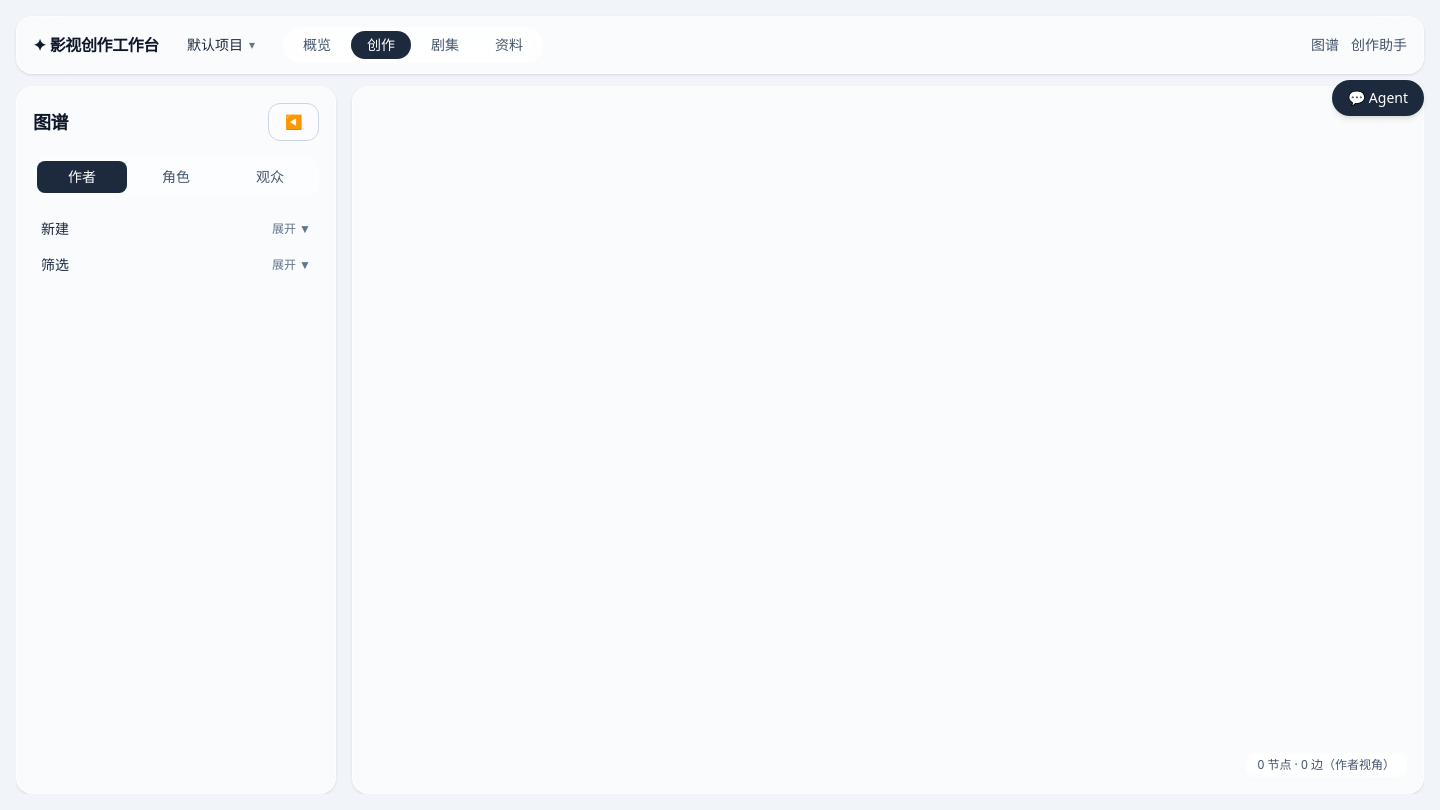
Test: F12 通用参考库（FI5/FI7/FI8/FI12） › FI5: 分区搜索过滤 + 与 chips AND 叠加；无命中提示区分空库（等价类—组合 + 边界值—过滤空集）
Click the link with test id "tab-assets": (509,44) x1=495 y1=35 x2=523 y2=54
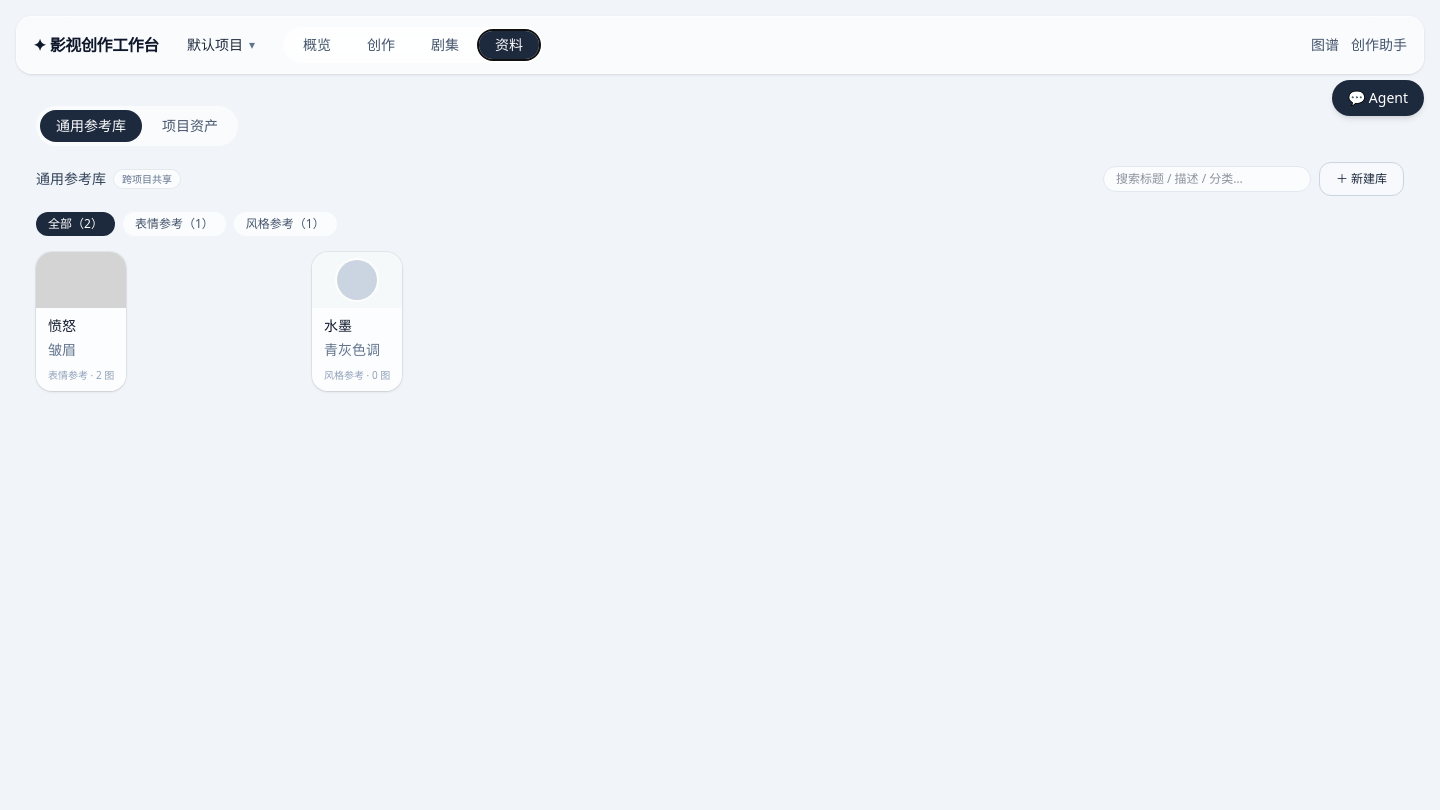
expect the link with test id "section-general" is shown: met, box x1=40 y1=110 x2=142 y2=142
In the search field with test id "asset-search": (1207,179) x1=1103 y1=166 x2=1311 y2=192, type "青灰"
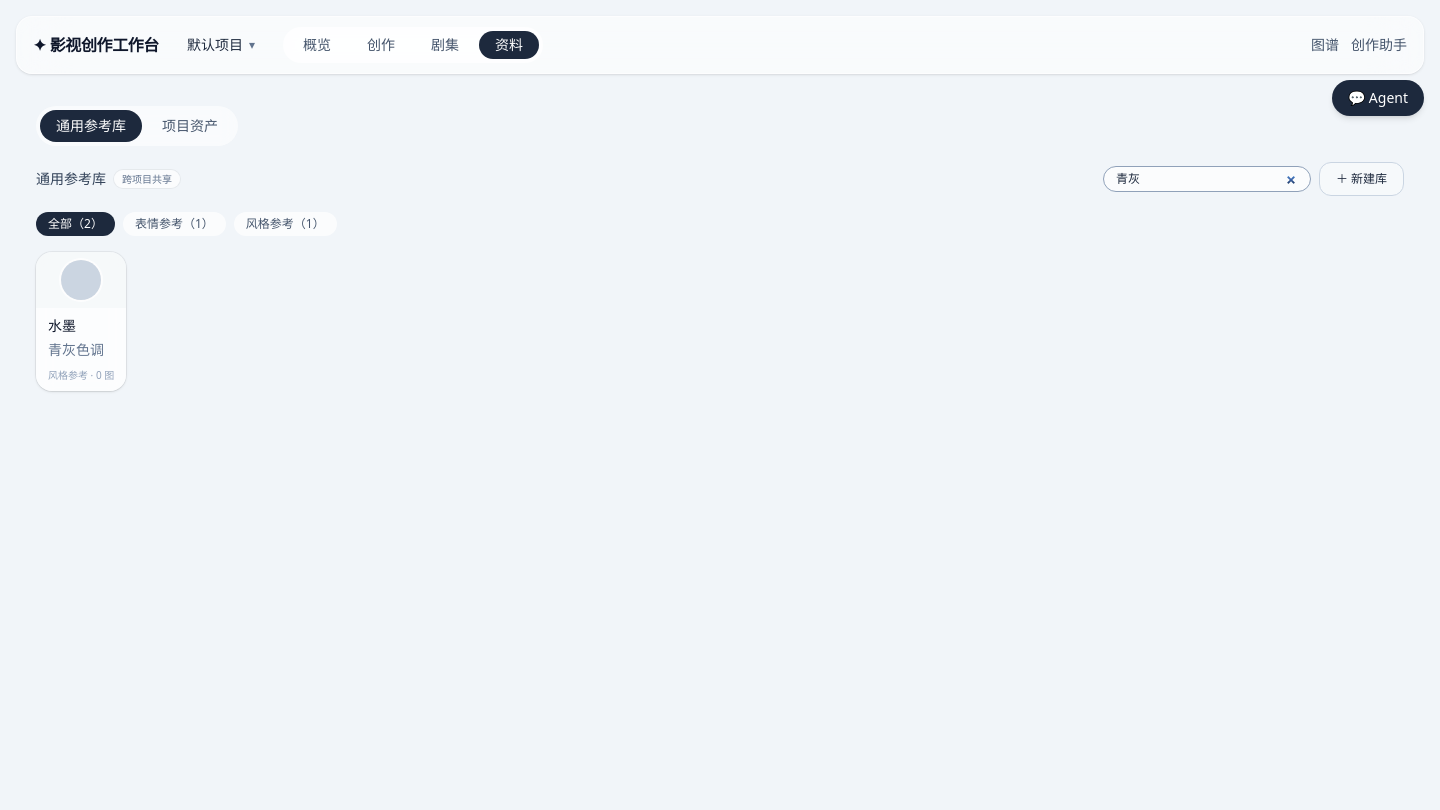
expect the number of buttons with test id "general-asset-asset-g2" is 1: met, box x1=36 y1=252 x2=126 y2=391
expect the button with test id "general-asset-asset-g1" is gone: met
Click the button with test id "category-表情参考": (174,224) x1=123 y1=212 x2=226 y2=236
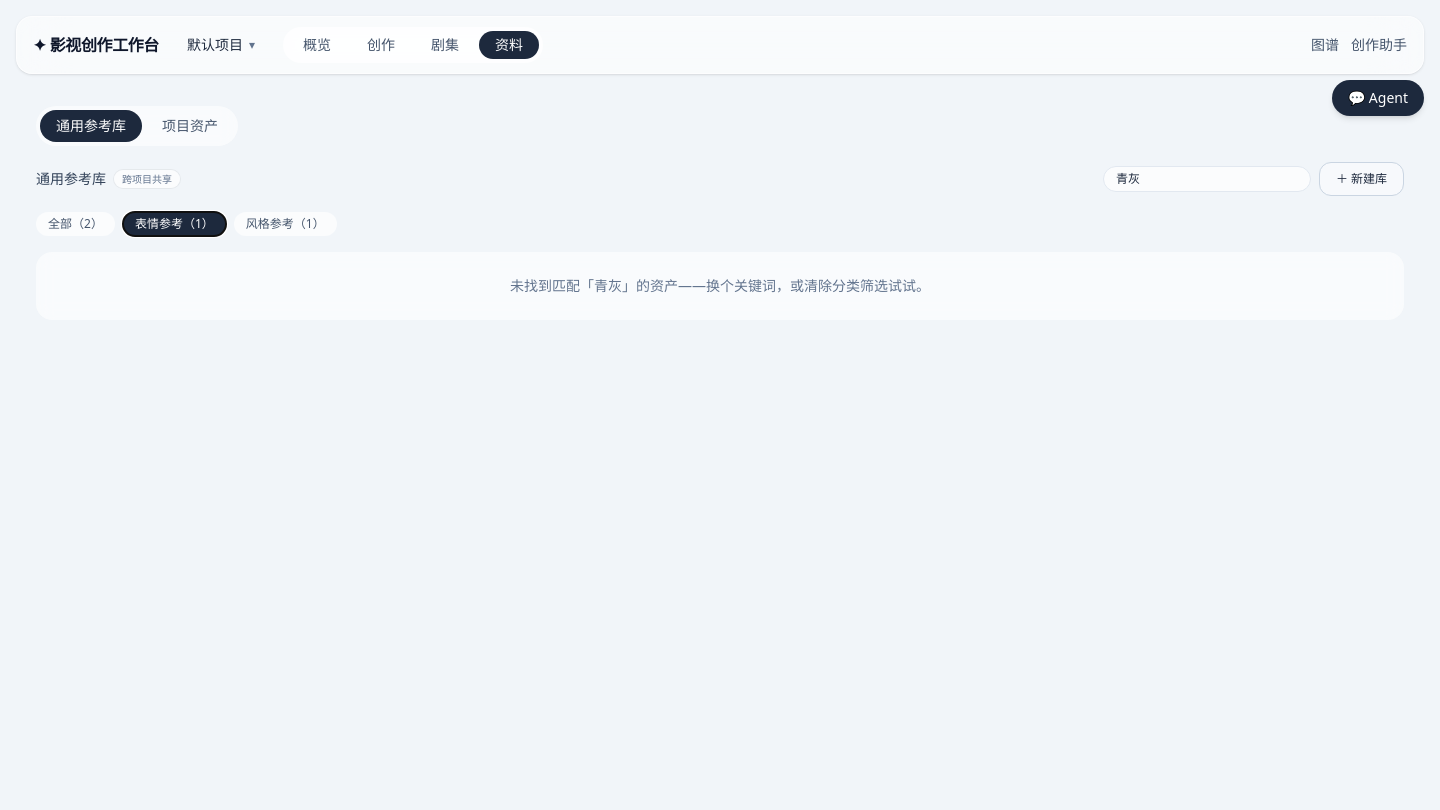
expect the text "未找到匹配「青灰」的资产——换个关键词，或清除分类筛选试试。" is shown: met, box x1=36 y1=252 x2=1404 y2=320
Clear the search field with test id "asset-search": (1207,179) x1=1103 y1=166 x2=1311 y2=192
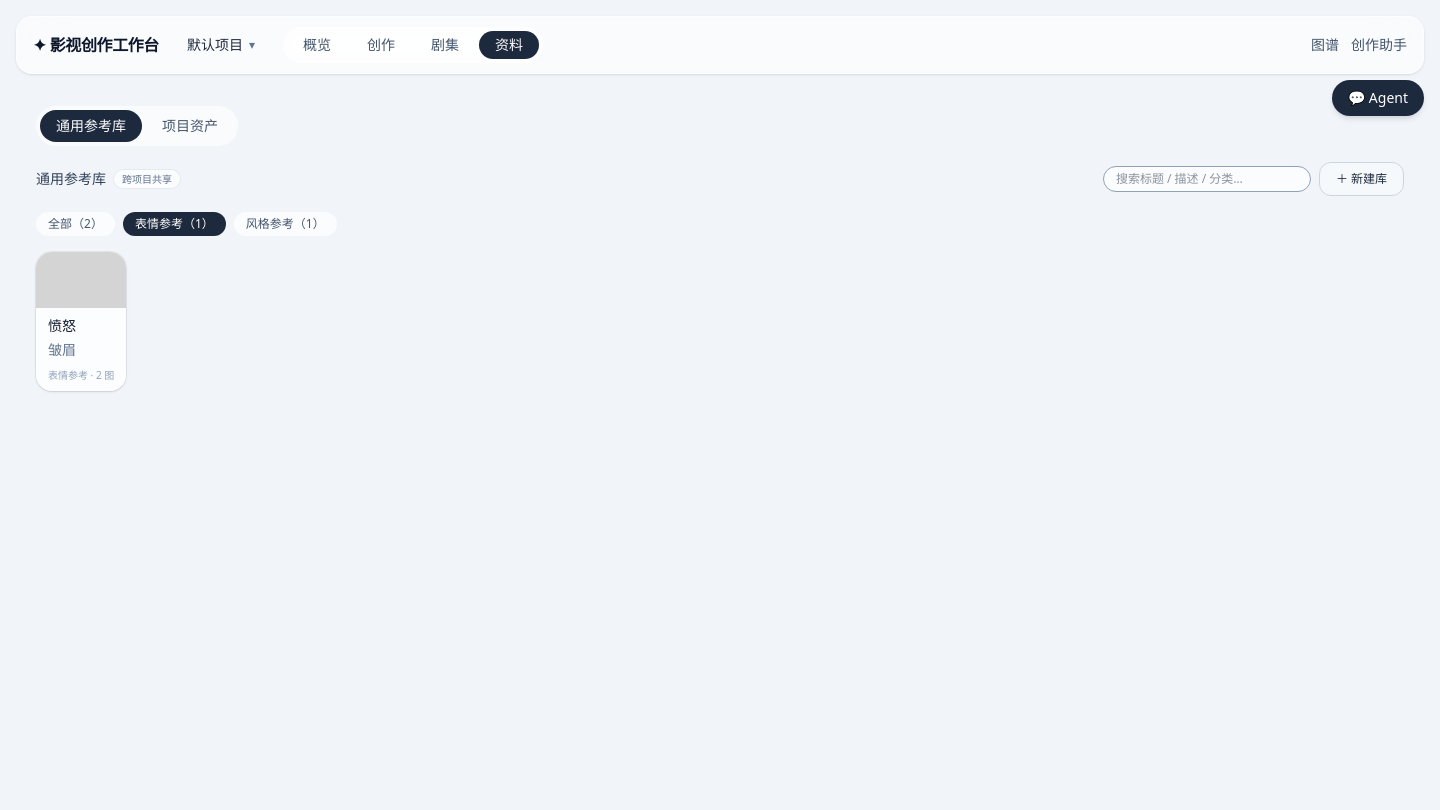
expect the number of buttons with test id "general-asset-asset-g1" is 1: met, box x1=36 y1=252 x2=126 y2=391
expect the text with test id "asset-search-empty" is gone: met
